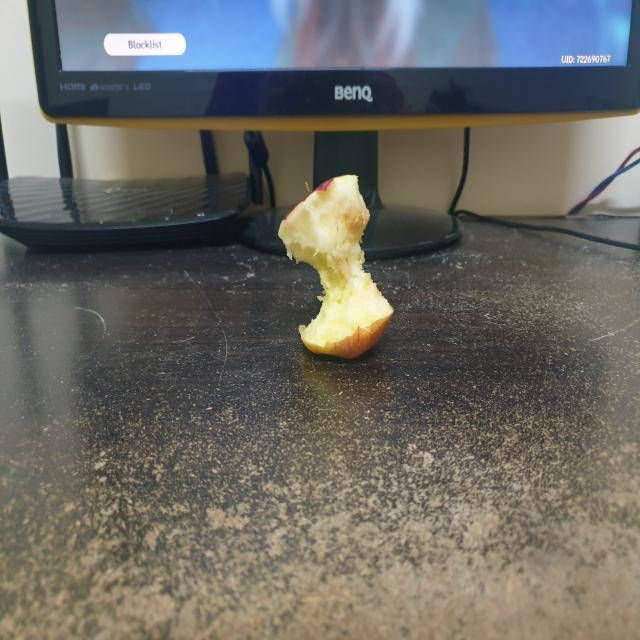apple: (274, 158, 401, 369)
